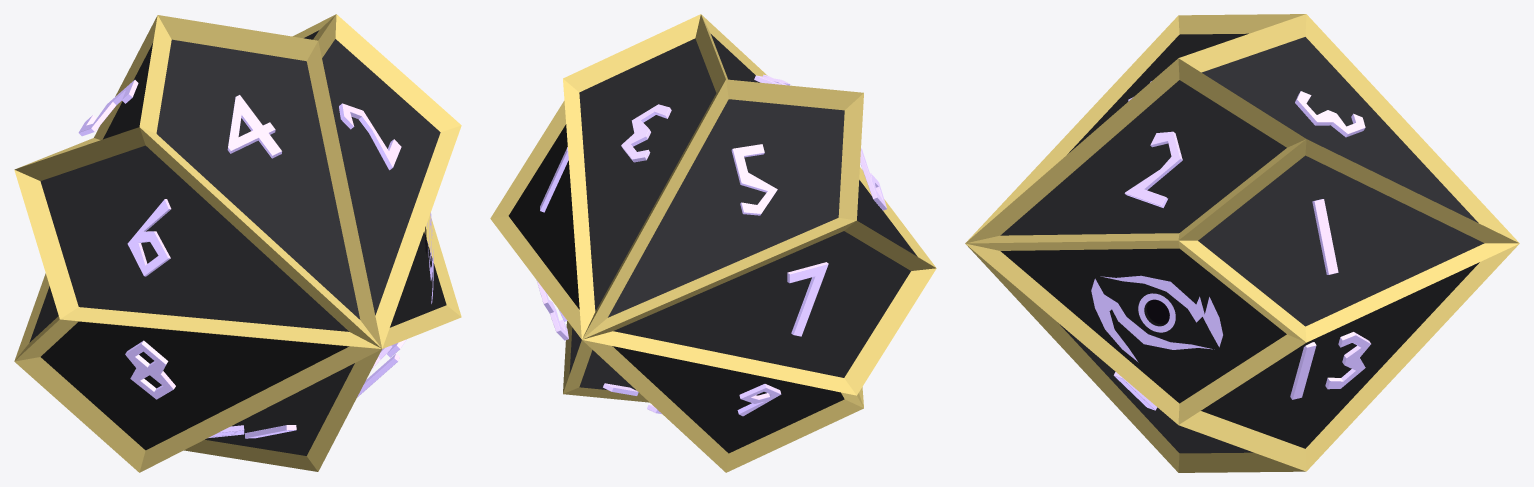
File: d14_black_hole_gold.glb
3 views of the same model, side by side, from view 1: azimuth 30°, elevation 25°; view 2: azimuth 150°, elevation 25°; view 3: azimuth 270°, elevation 25° (orthographic). The views are drawn at different scales.
Parts seen in each view (by area): view 1: D14_Die; view 2: D14_Die; view 3: D14_Die.
Part boxes in pixels (x1=…): D14_Die: x1=14, y1=14, x2=461, y2=472; D14_Die: x1=490, y1=14, x2=936, y2=472; D14_Die: x1=965, y1=14, x2=1519, y2=472.
Bounding box in the file's own units: 4.4 × 4.29 × 5.2.
